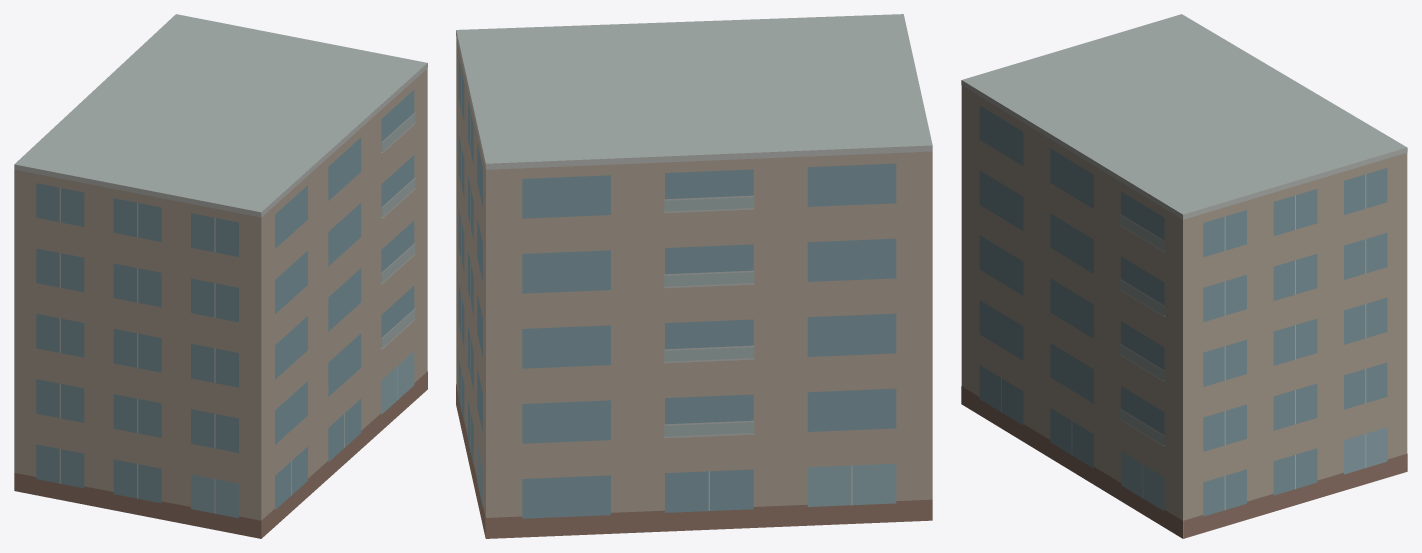
File: survey-upis-32720225.glb
3 renders of one model, left to right at view 1: azimuth 30°, elevation 25°; view 2: azimuth 150°, elevation 25°; view 3: azimuth 270°, elevation 25°, orthographic. The views are drawn at different scales.
Visible parts, largest first — view 1: survey-upis-32720225.tmp; view 2: survey-upis-32720225.tmp; view 3: survey-upis-32720225.tmp.
Boxes of the visible parts, x1,y1,x2,y2 form: survey-upis-32720225.tmp: (14, 14, 427, 538); survey-upis-32720225.tmp: (456, 14, 932, 538); survey-upis-32720225.tmp: (961, 14, 1407, 538).
Bounding box in the file's own units: 20.25 × 15.25 × 19.02.
